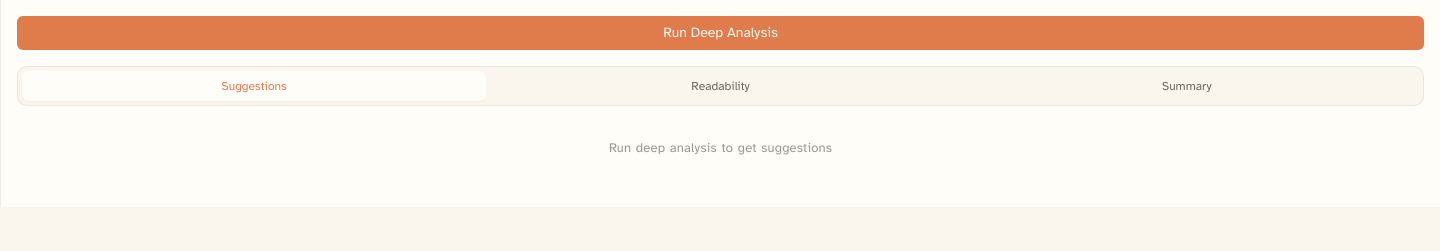
Scenario: PolishPanel › clicking "Readability" tab shows readability content
Click the button "Readability" at (720, 86), box top-left (488, 71), bottom-right (953, 101)
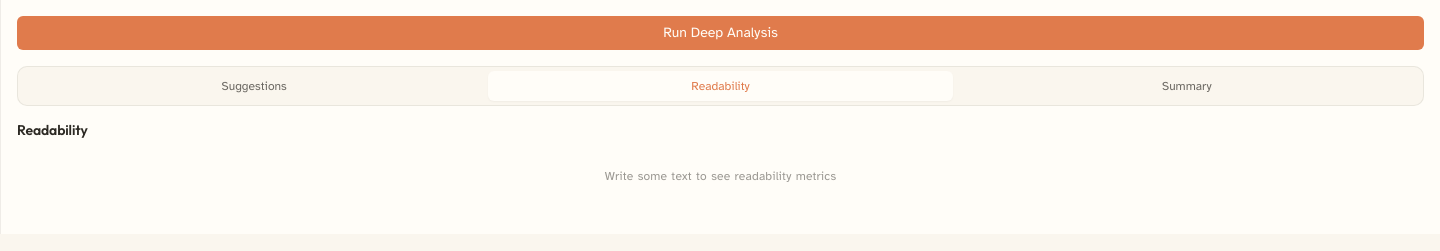
Result: the element "Readability Write some text to see readability metrics" is shown at top-left (17, 121), bottom-right (836, 183)
